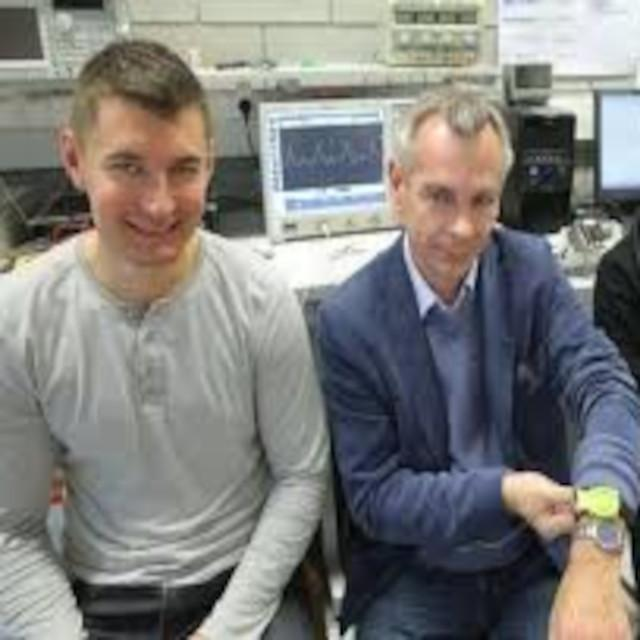mezczyzna: (0, 38, 311, 640), (314, 91, 640, 640)
